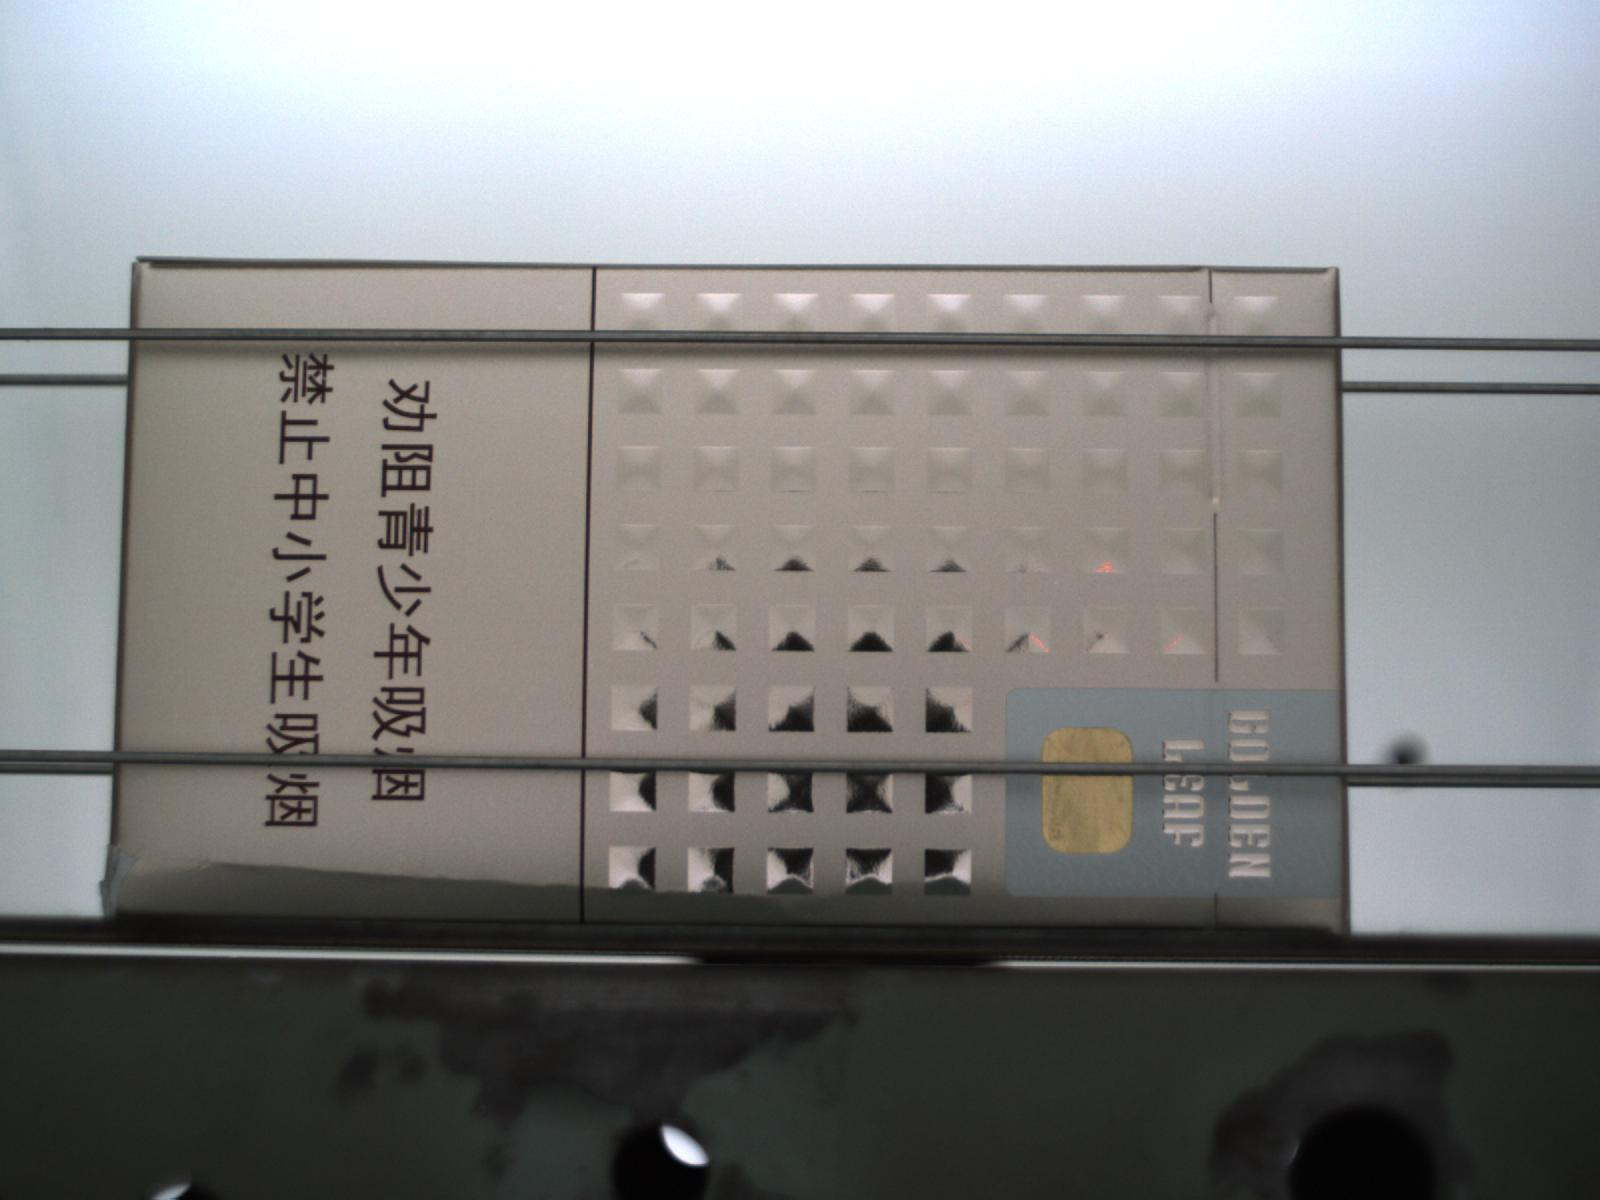dirtyScratch: (94, 856, 939, 928)
skewed_upper_0: (96, 848, 152, 923)
